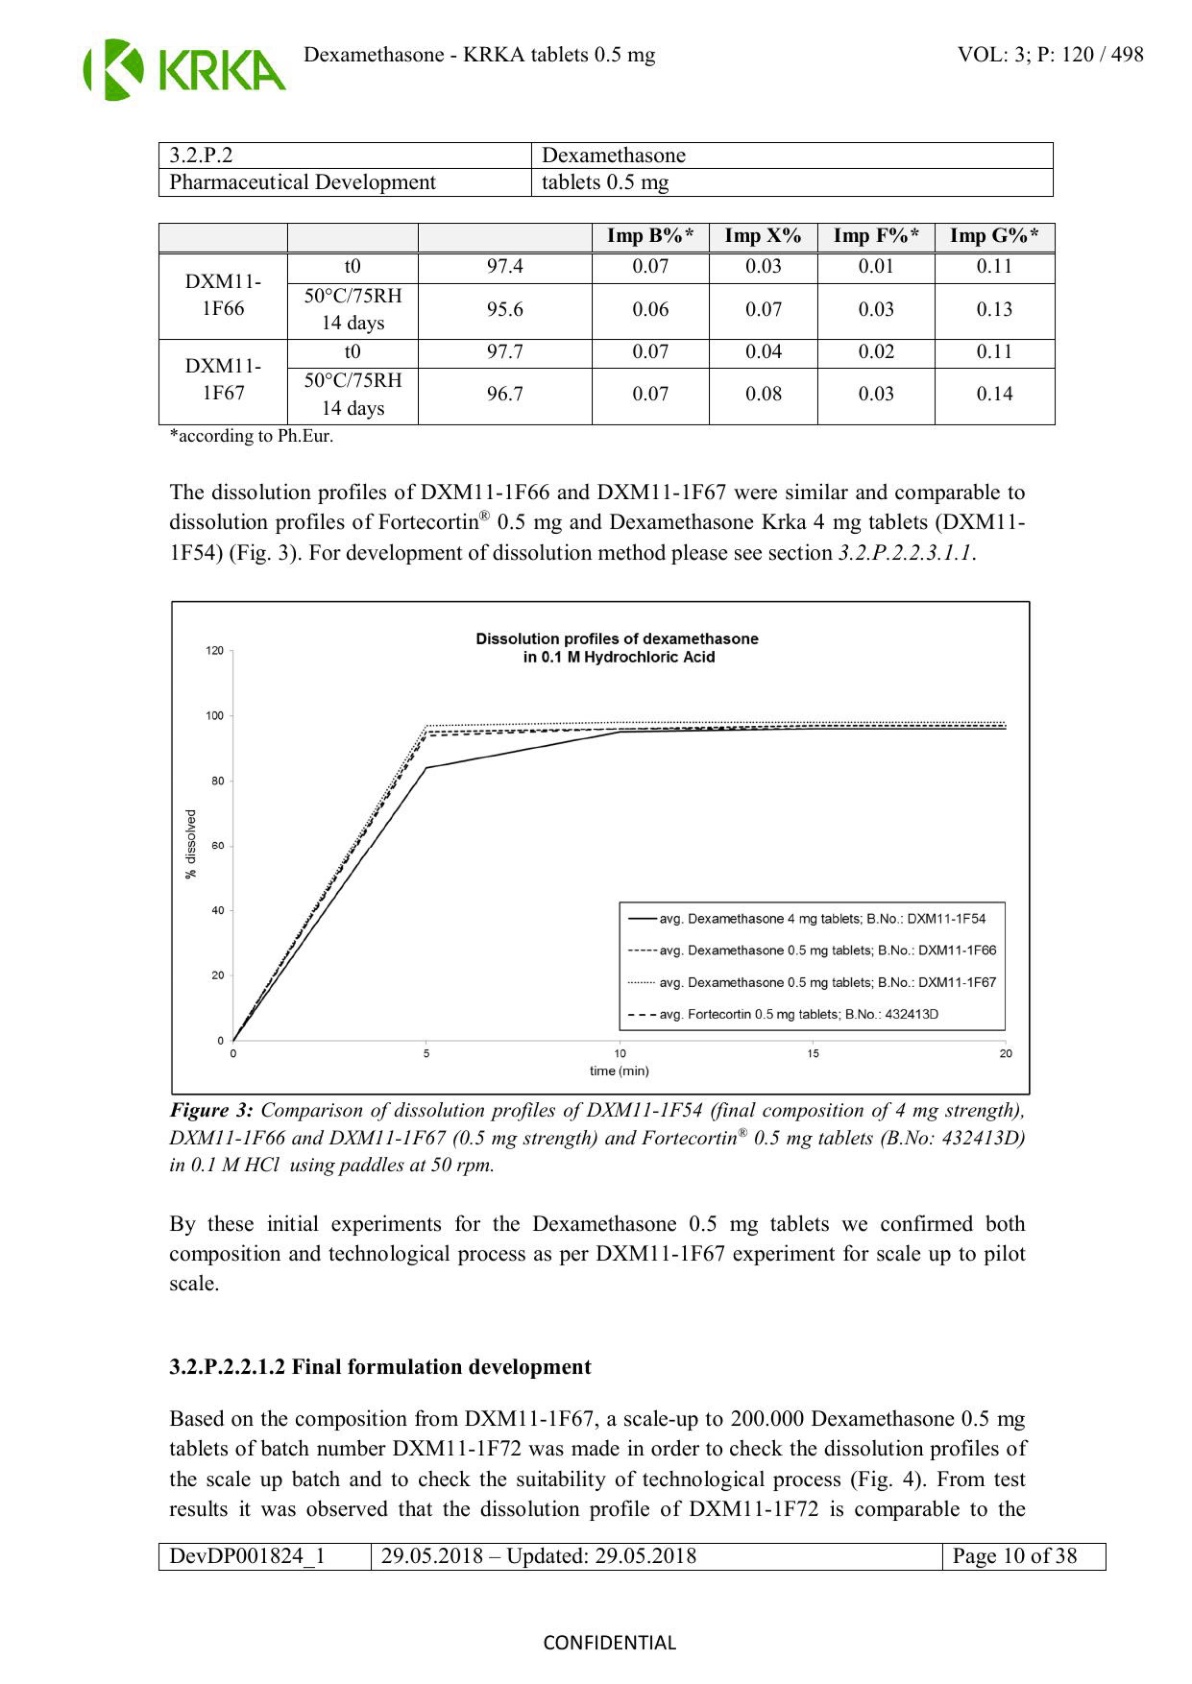full_lined: (157, 141, 1055, 199), (156, 1541, 1107, 1572)
merged_cells: (156, 220, 1057, 426)
